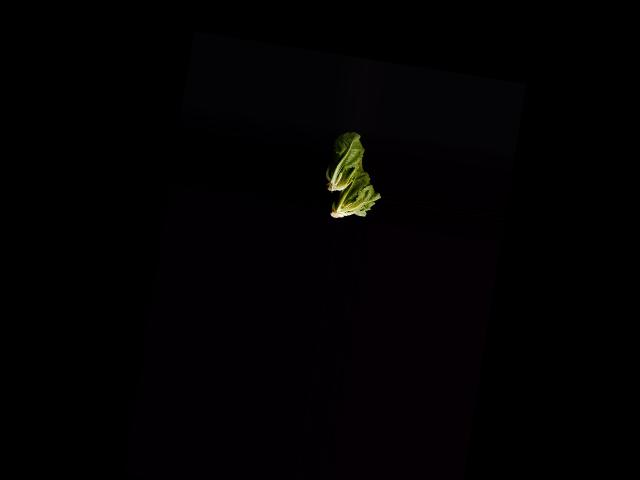lettuce: (323, 155, 385, 224)
